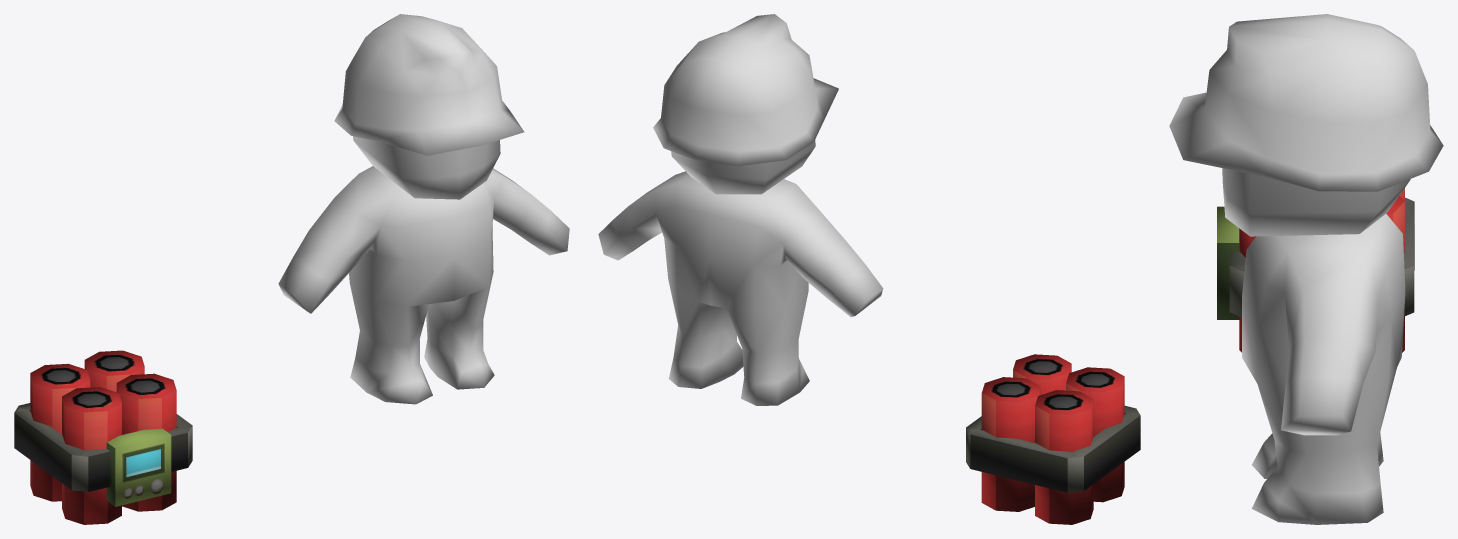
Rendered from MinerSurvivor.fbx.
The picture shows the model from 3 angles, left to right: view 1: azimuth 30°, elevation 25°; view 2: azimuth 150°, elevation 25°; view 3: azimuth 270°, elevation 25°; orthographic projection. The views are drawn at different scales.
Parts seen in each view (by area): view 1: MinerModel, Cube_1; view 2: MinerModel, Cube_1; view 3: MinerModel, Cube_1.
Boxes of the visible parts, x1,y1,x2,y2 form: MinerModel: (278,14,569,404); Cube_1: (14,350,192,524); MinerModel: (598,14,883,405); Cube_1: (966,354,1140,524); MinerModel: (1169,14,1443,524); Cube_1: (1217,188,1414,352).
Size of the model in its own units: 1.7 by 1.23 by 0.5886.
